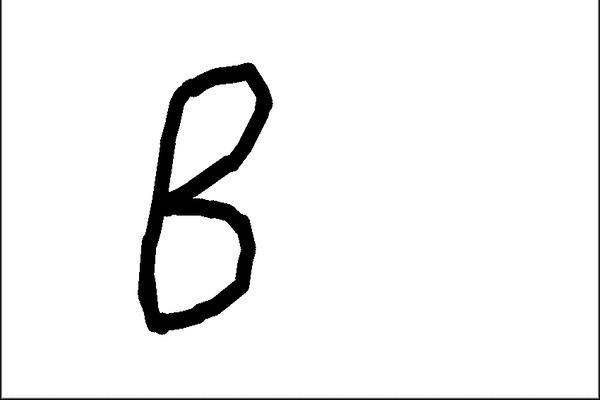B: (127, 50, 282, 346)
